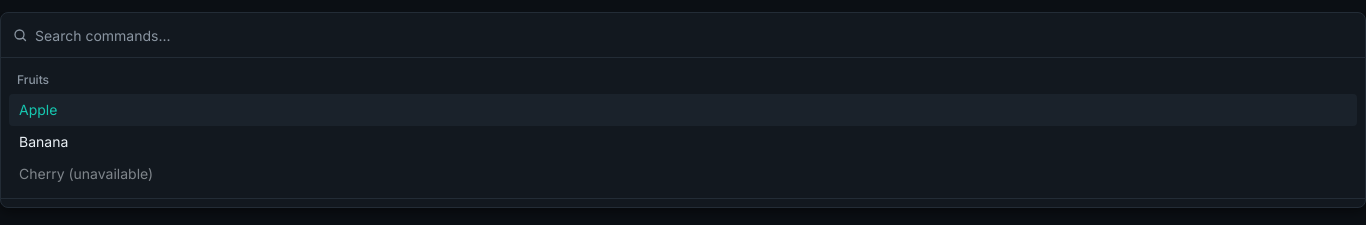
Test: Command › filters items as the user types
Type "ban" into the dropdown with placeholder "Search commands..." at (694, 35), box [35,13,1353,57]
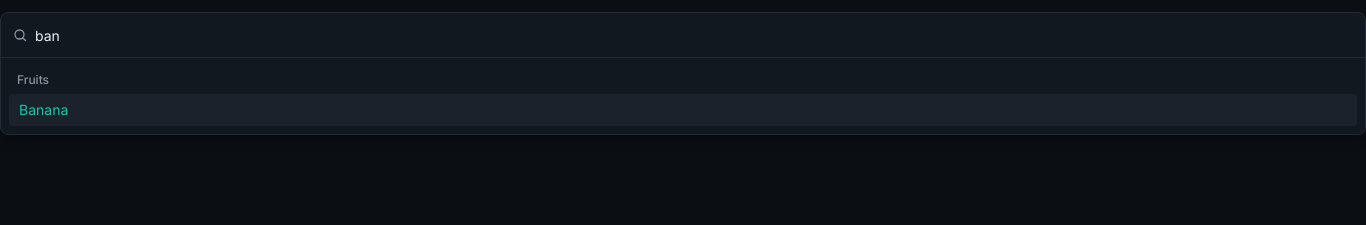
expect the option "Banana" is shown: met, box [9,94,1357,126]
expect the option "Apple" is gone: met
